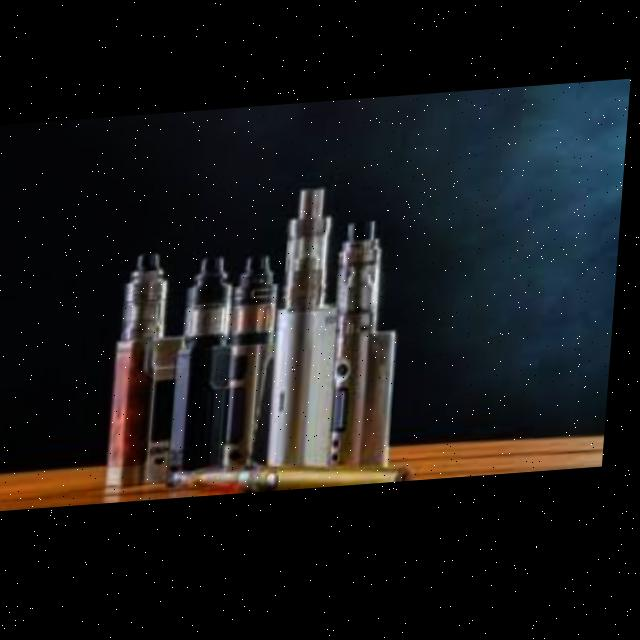vape: (184, 252, 279, 502), (272, 190, 351, 475), (111, 251, 196, 498), (332, 224, 411, 476), (178, 463, 418, 502), (240, 255, 283, 345)
